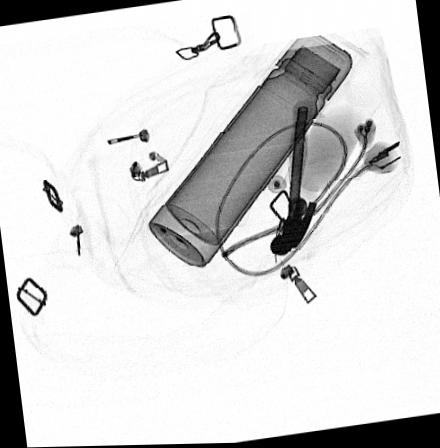Hammer: (268, 98, 316, 256)
